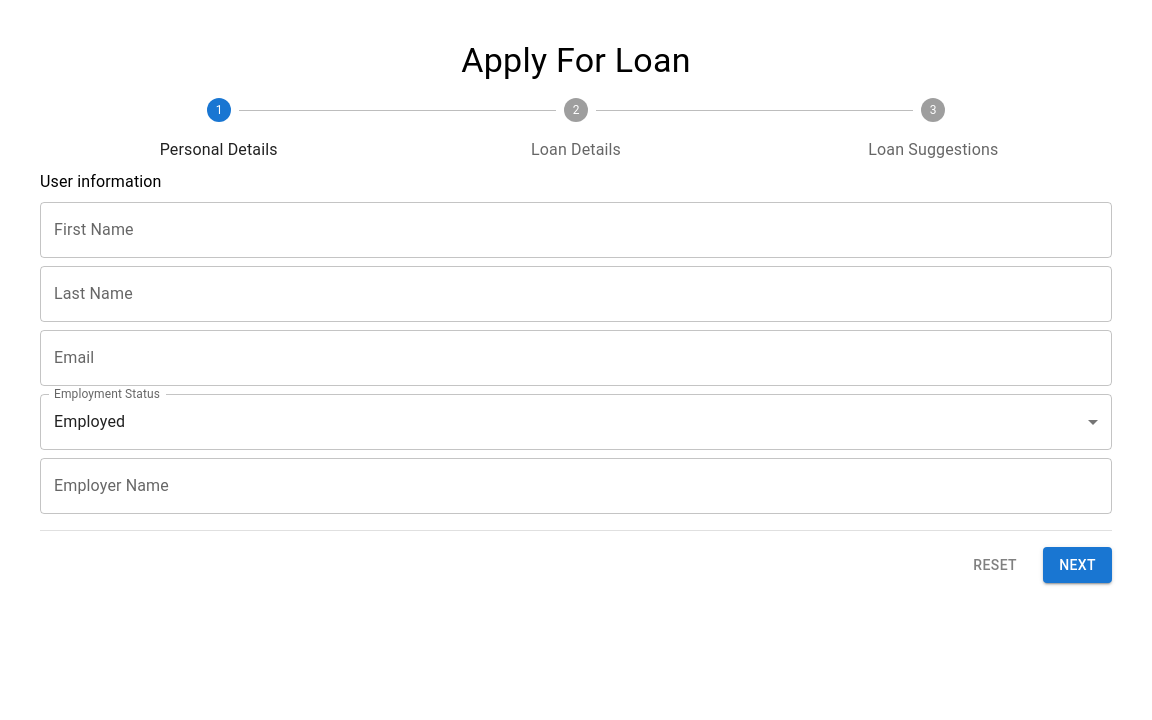
Test: Personal Details Step › Fills personal details and navigates to loan step for non Employed
The width and height of the screenshot is (1152, 720).
Expected: the text "User information" is shown, [40,172,162,191]
Type "Aldrin" into the element with test id "input-first-name" at point(576, 230), box [40,202,1112,258]
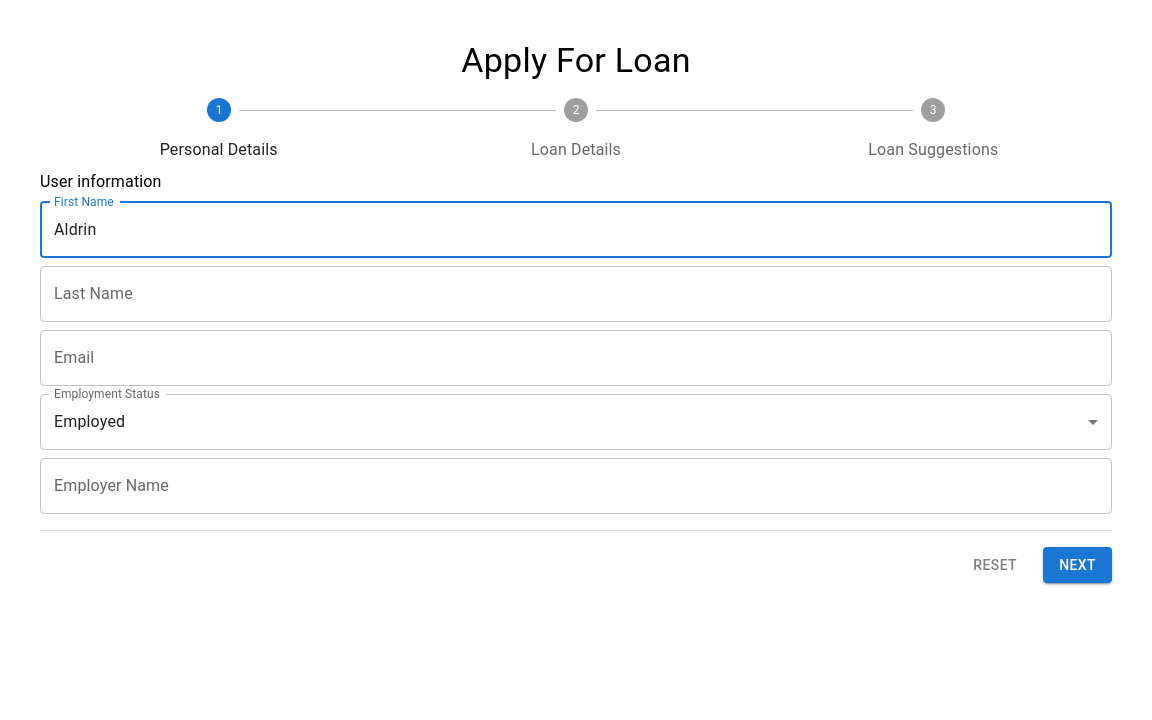
Type "Cunanan" into the element with test id "input-last-name" at point(576, 294), box [40,266,1112,322]
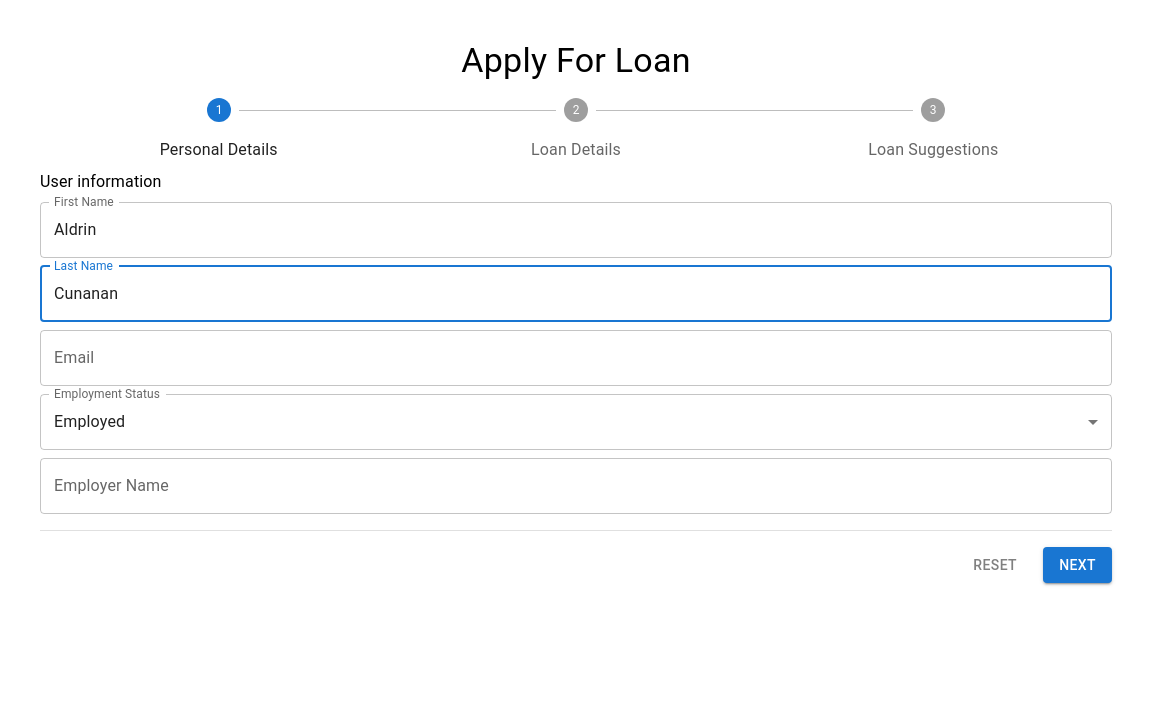
Type "aldrincunanan@example.com" into the element with test id "input-email" at point(576, 358), box [40,330,1112,386]
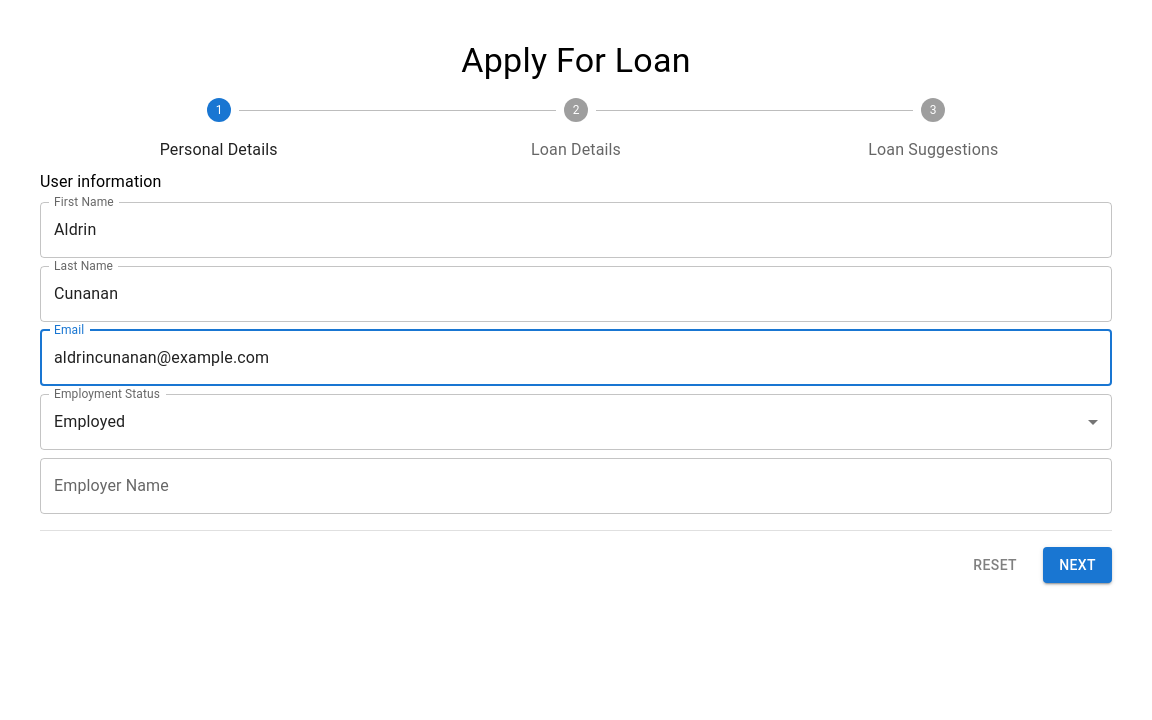
Click the element with test id "select-employment-status" at point(576, 422), box [40,394,1112,450]
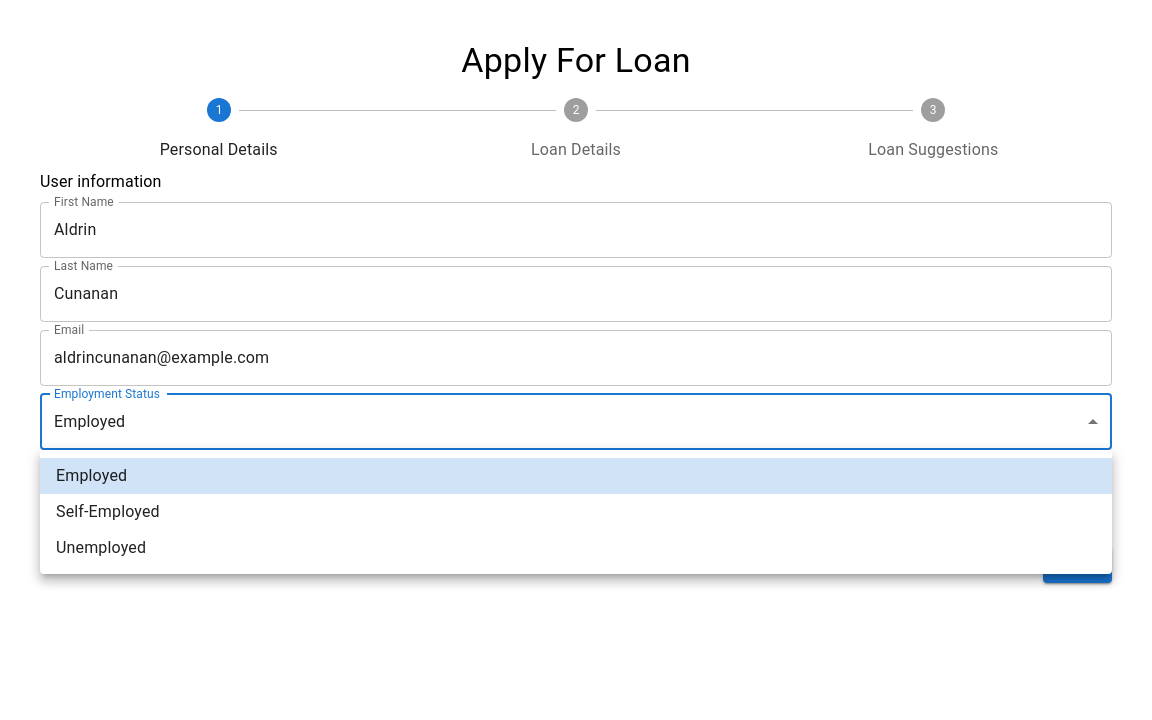
Click the option "Self-Employed" at point(108, 512), box [56,502,160,521]
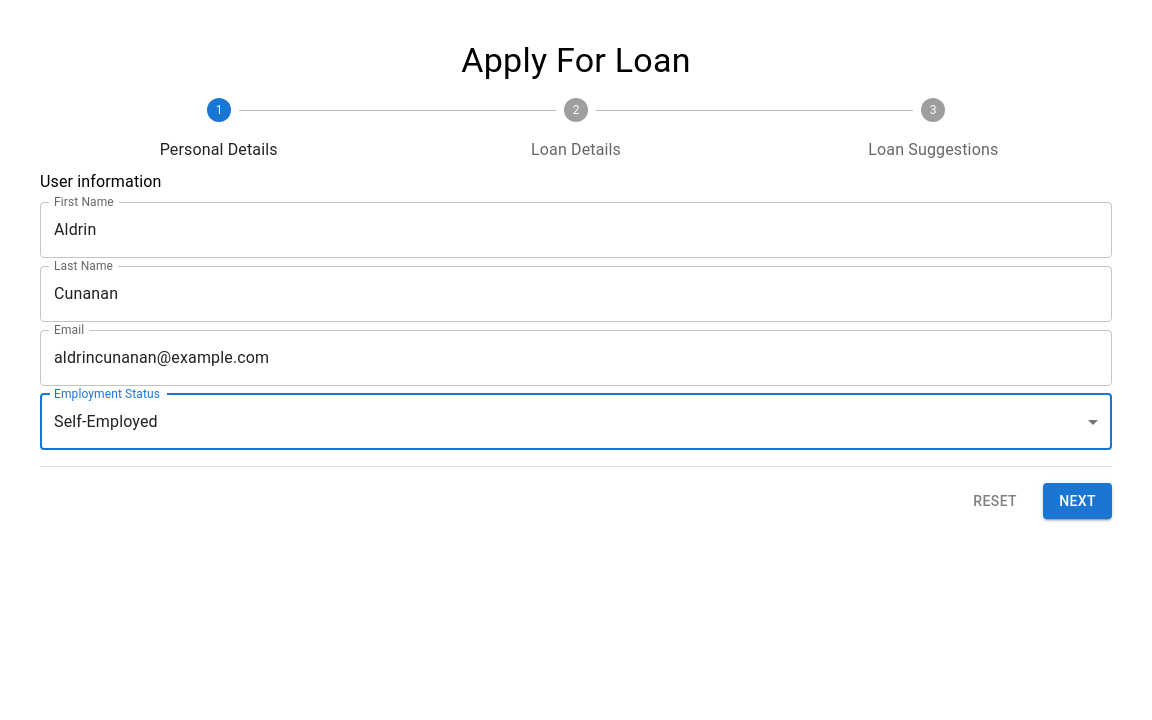
Click the button "Next" at point(1078, 502), box [1043,483,1112,520]
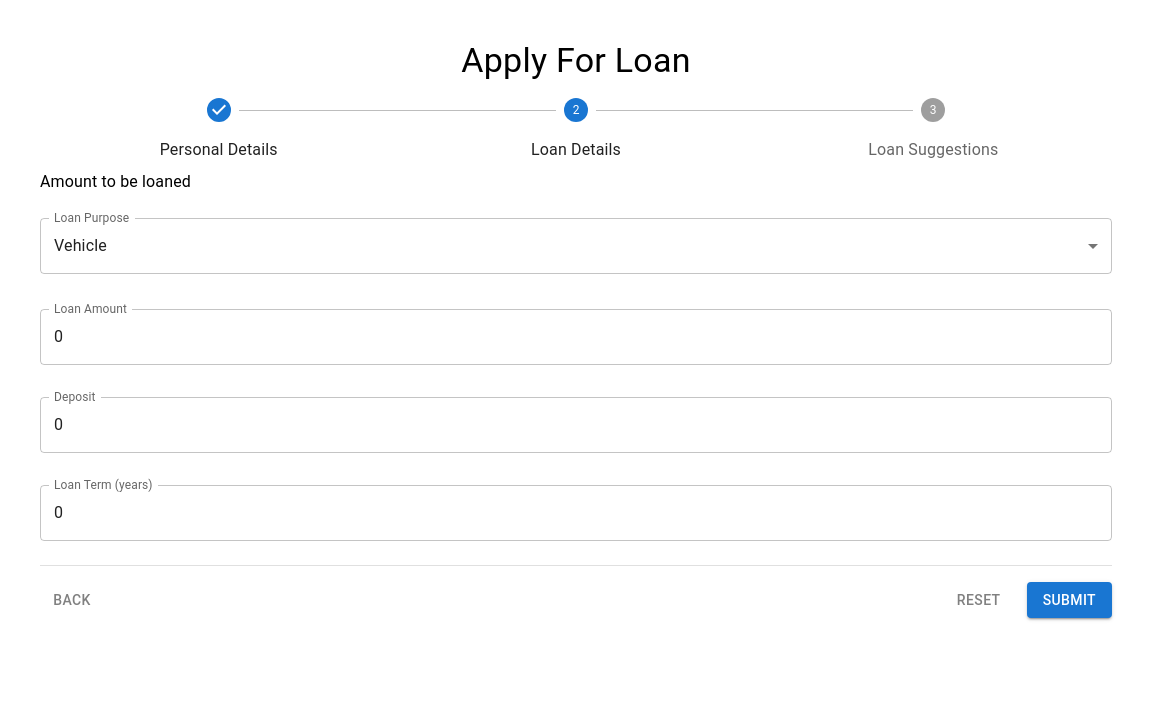
Expected: the text "Amount to be loaned" is shown, [40,172,191,191]
